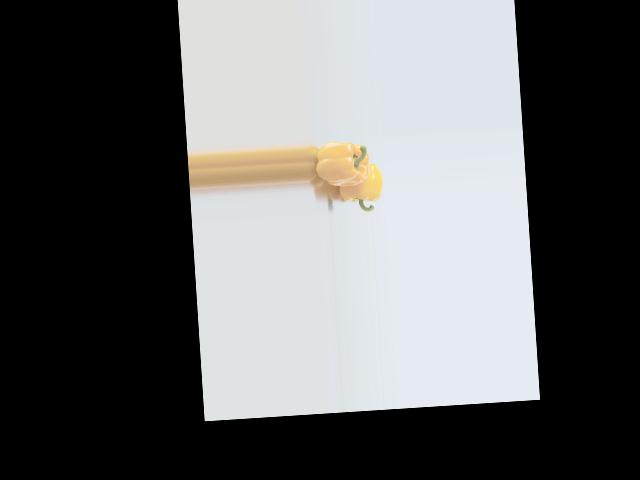bell_pepper: (330, 160, 385, 213)
